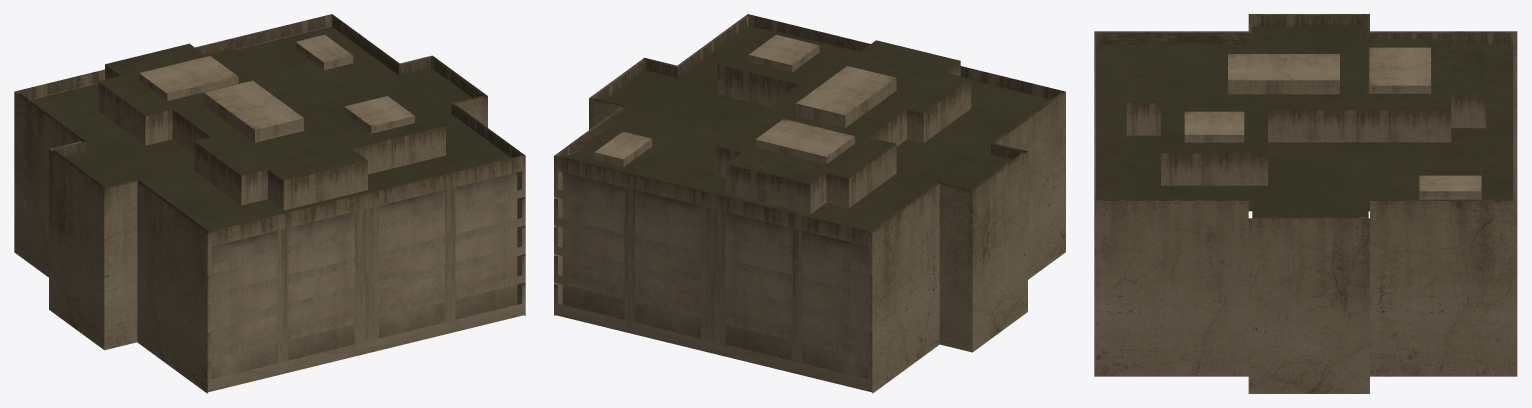
Rendered from ORB_1_S5_Detail_3.fbx.
3 views of the same model, side by side, from view 1: azimuth 30°, elevation 25°; view 2: azimuth 150°, elevation 25°; view 3: azimuth 270°, elevation 25° (orthographic). The views are drawn at different scales.
Parts seen in each view (by area): view 1: ORB_1_S5_Detail_3; view 2: ORB_1_S5_Detail_3; view 3: ORB_1_S5_Detail_3.
Boxes of the visible parts, <box> form: ORB_1_S5_Detail_3: <box>14,14,525,393</box>; ORB_1_S5_Detail_3: <box>554,14,1065,393</box>; ORB_1_S5_Detail_3: <box>1094,14,1517,393</box>.
Bounding box in the file's own units: 3942 × 1893 × 3447.
